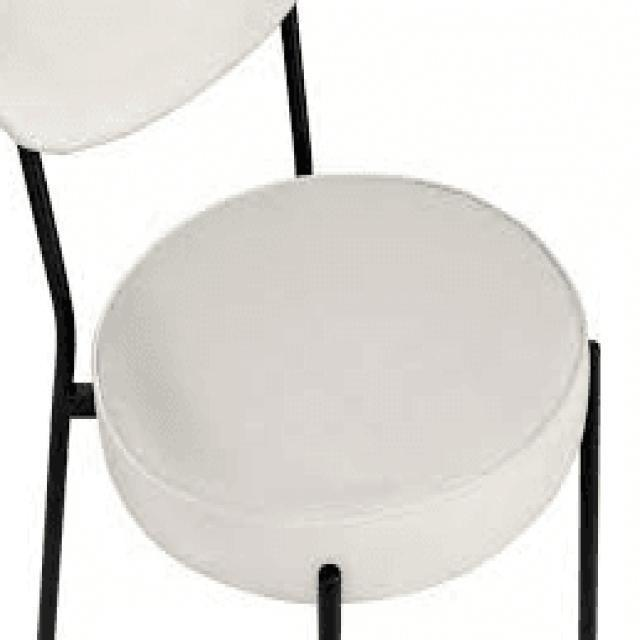chair: (0, 0, 613, 640), (0, 2, 589, 600)
